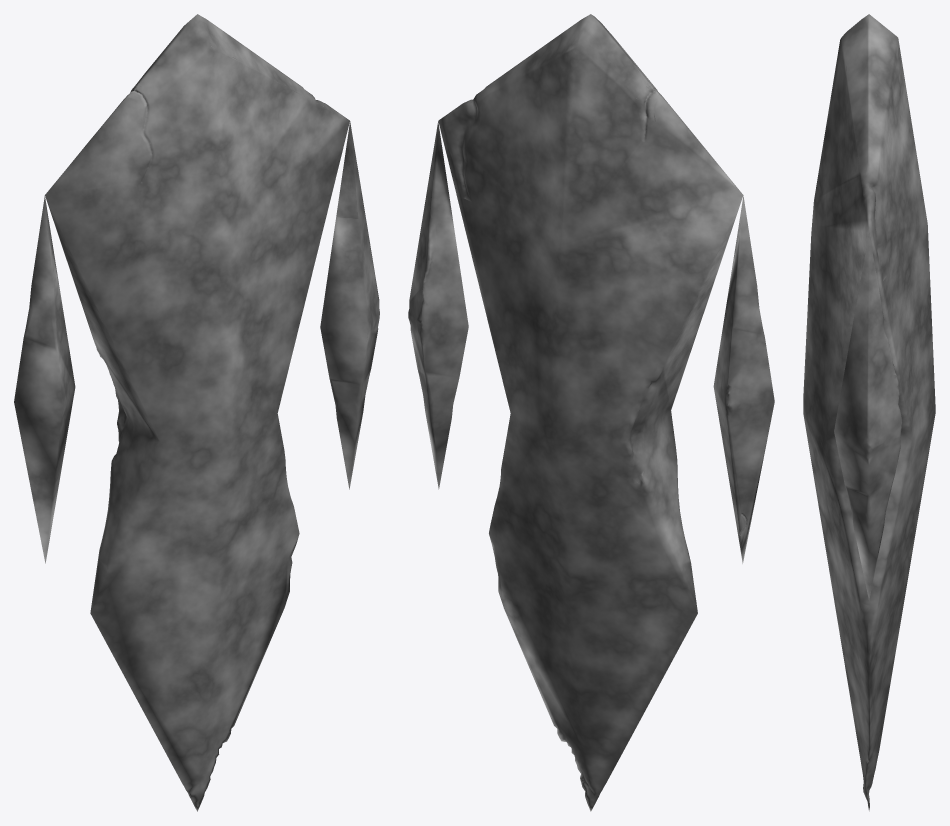
The model's file is Alienation.glb.
The picture shows the model from 3 angles, left to right: view 1: azimuth 30°, elevation 25°; view 2: azimuth 150°, elevation 25°; view 3: azimuth 270°, elevation 25°; orthographic projection.
Parts seen in each view (by area): view 1: AlienationLow.002; view 2: AlienationLow.002; view 3: AlienationLow.002.
Part boxes in pixels (left/top/right/bottom): AlienationLow.002: left=14, top=14, right=379, bottom=811; AlienationLow.002: left=408, top=14, right=774, bottom=811; AlienationLow.002: left=803, top=14, right=935, bottom=811.
Size of the model in its own units: 1.2 by 2.5 by 0.3759.
1 material, 1 textured.
